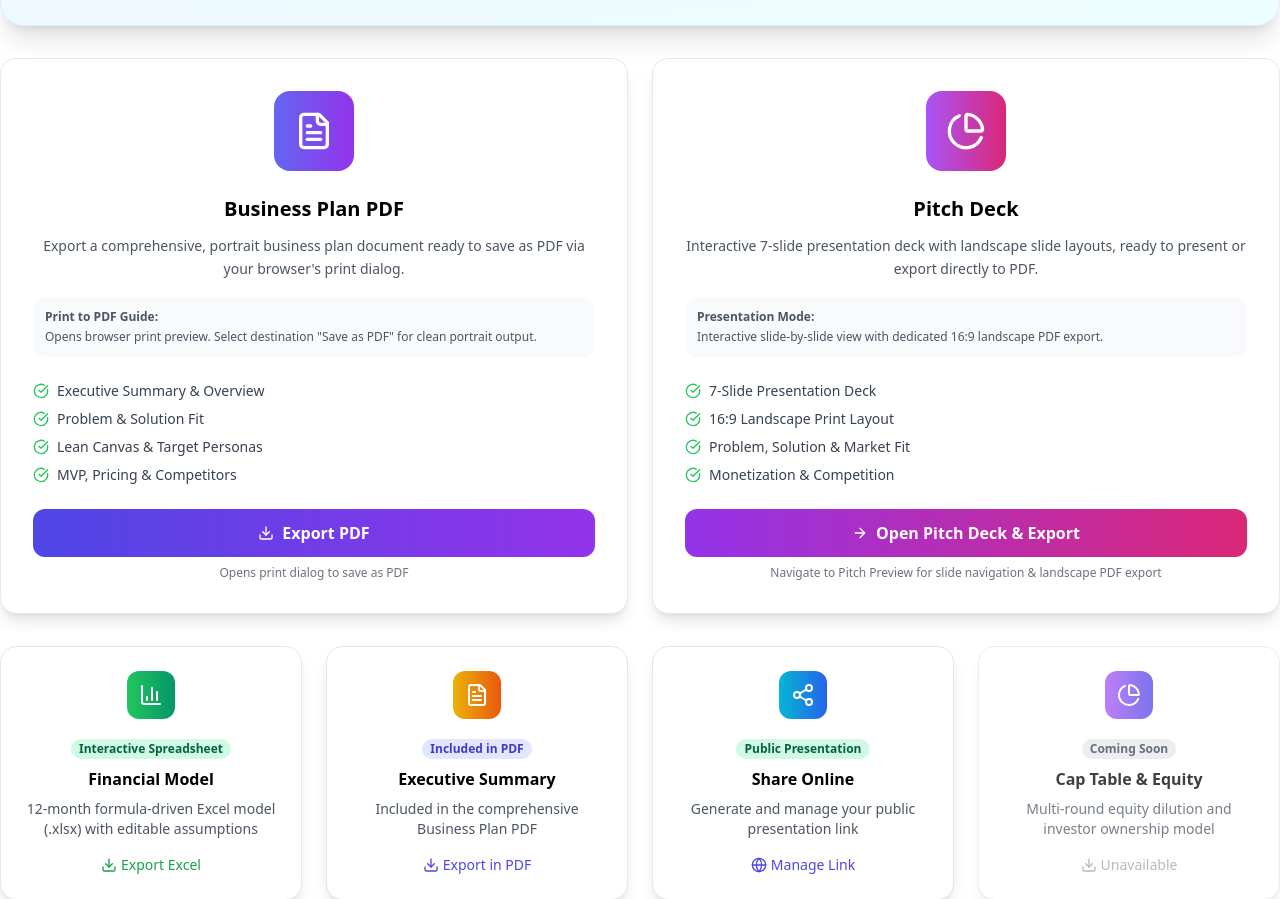
Scenario: Print Views and Export UI › ExportTab displays user-facing error message when workbook export fails
The image size is (1280, 899).
(page scrolled)
Click the button "Export Excel" at [151, 864], box x1=101 y1=854 x2=201 y2=874
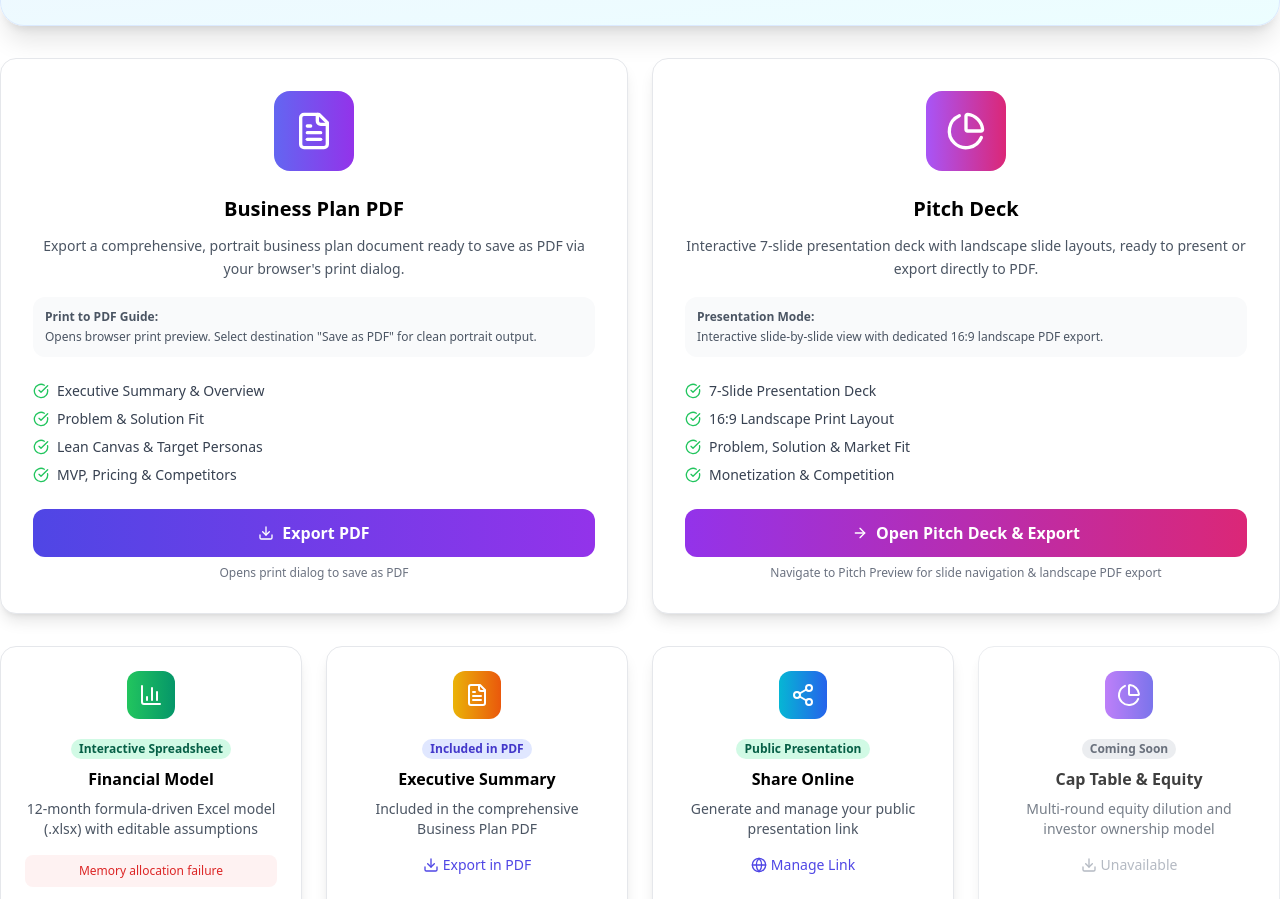
Now the text "Memory allocation failure" is shown, box x1=25 y1=854 x2=277 y2=886
